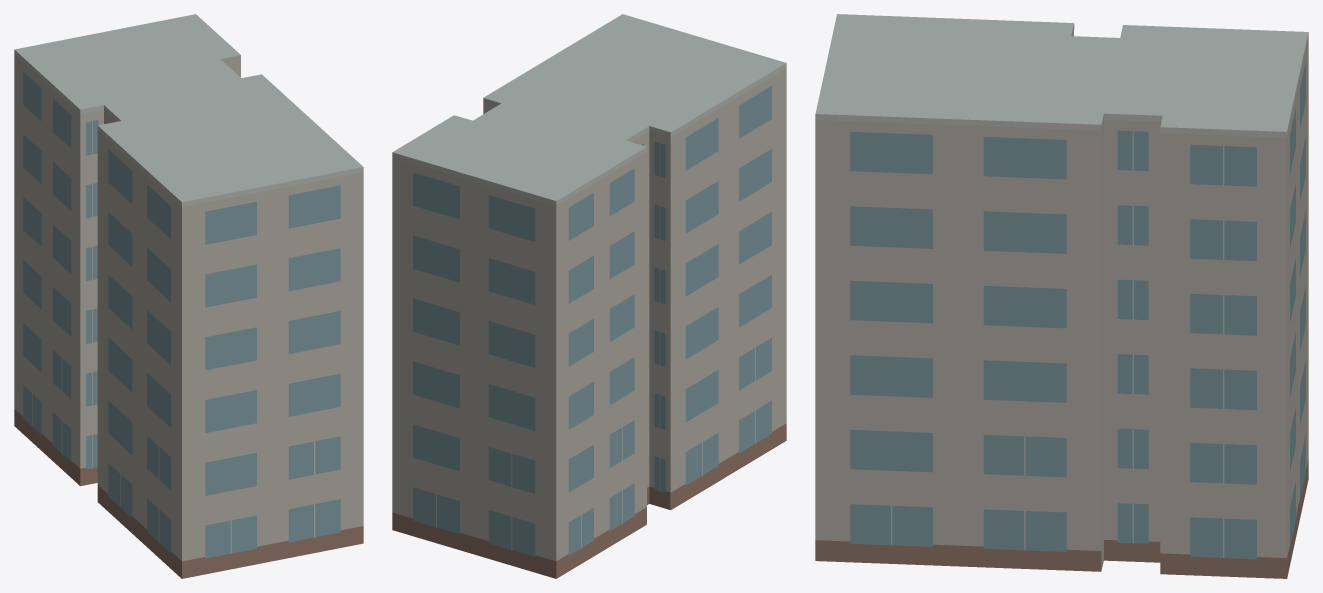
The model's file is survey-upis-32566845.glb.
3 renders of one model, left to right at view 1: azimuth 30°, elevation 25°; view 2: azimuth 150°, elevation 25°; view 3: azimuth 270°, elevation 25°, orthographic. The views are drawn at different scales.
Visible parts, largest first — view 1: survey-upis-32566845.tmp; view 2: survey-upis-32566845.tmp; view 3: survey-upis-32566845.tmp.
Boxes of the visible parts, bbox=[...] form: survey-upis-32566845.tmp: bbox=[14, 14, 363, 578]; survey-upis-32566845.tmp: bbox=[392, 14, 786, 578]; survey-upis-32566845.tmp: bbox=[815, 14, 1308, 578].
Size of the model in its own units: 10.36 by 18.3 by 18.3.
